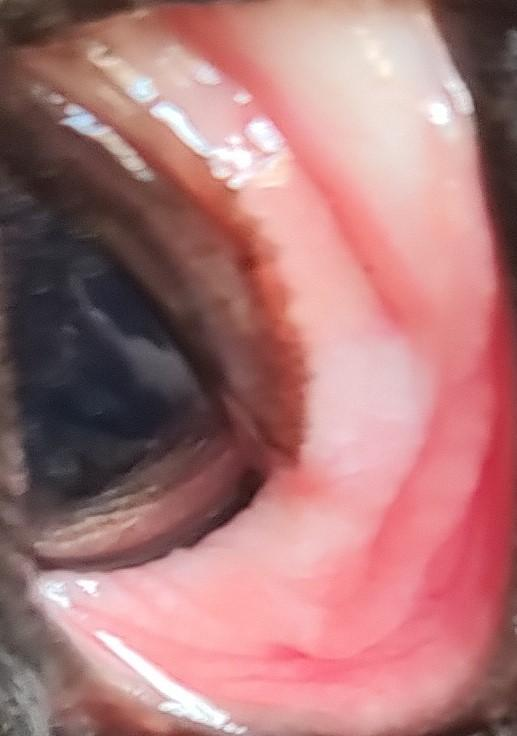eye_membrane: (40, 0, 512, 736)
